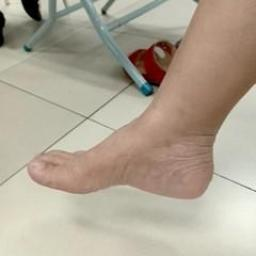Medial View -Right Foot-: (13, 95, 240, 216)
